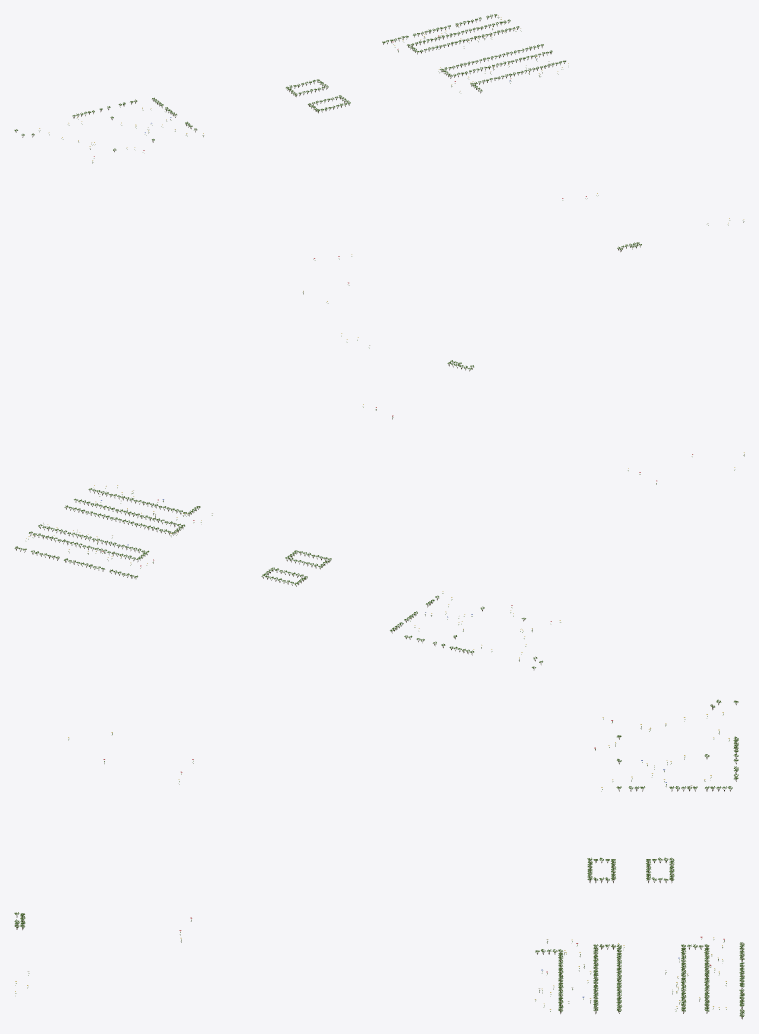
3 renders of one model, top to bottom at view 1: azimuth 30°, elevation 25°; view 2: azimuth 150°, elevation 25°; view 3: azimuth 270°, elevation 25°, orthographic. The views are drawn at different scales.
Visible parts, largest first — view 1: GROUND_FLORA_s_-6_4; view 2: GROUND_FLORA_s_-6_4; view 3: GROUND_FLORA_s_-6_4.
Boxes of the visible parts, bbox=[...] form: GROUND_FLORA_s_-6_4: bbox=[14, 14, 744, 303]; GROUND_FLORA_s_-6_4: bbox=[14, 333, 744, 669]; GROUND_FLORA_s_-6_4: bbox=[14, 699, 744, 1019].
Size of the model in its own units: 126 by 1.97 by 125.
